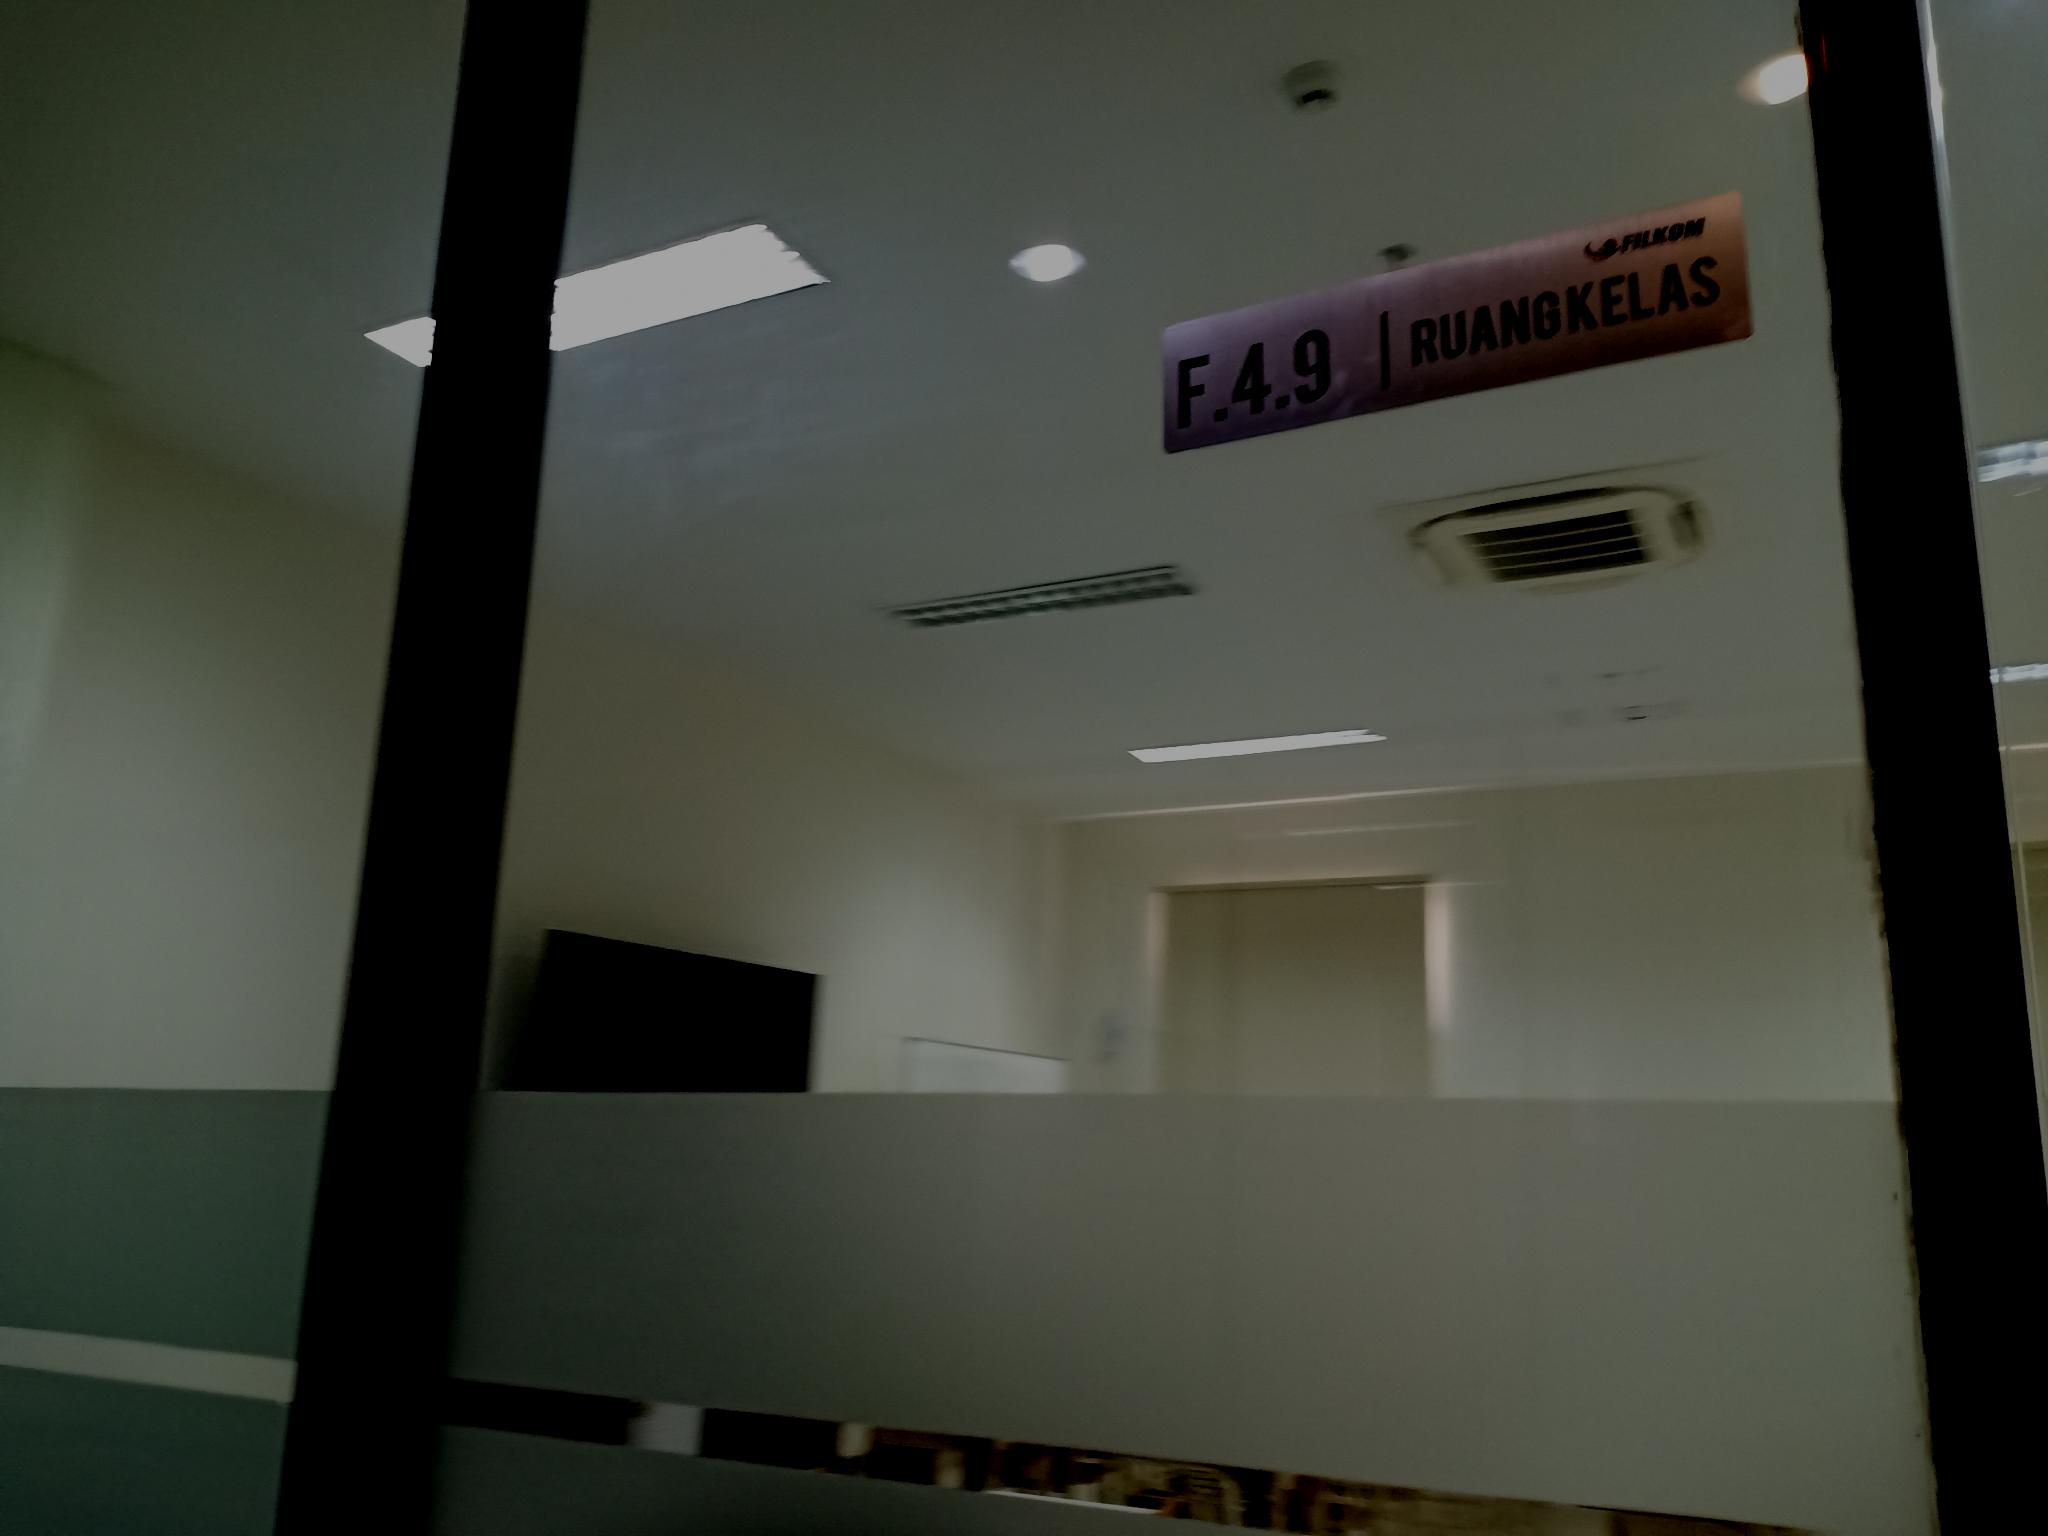plate: (1159, 189, 1755, 453)
